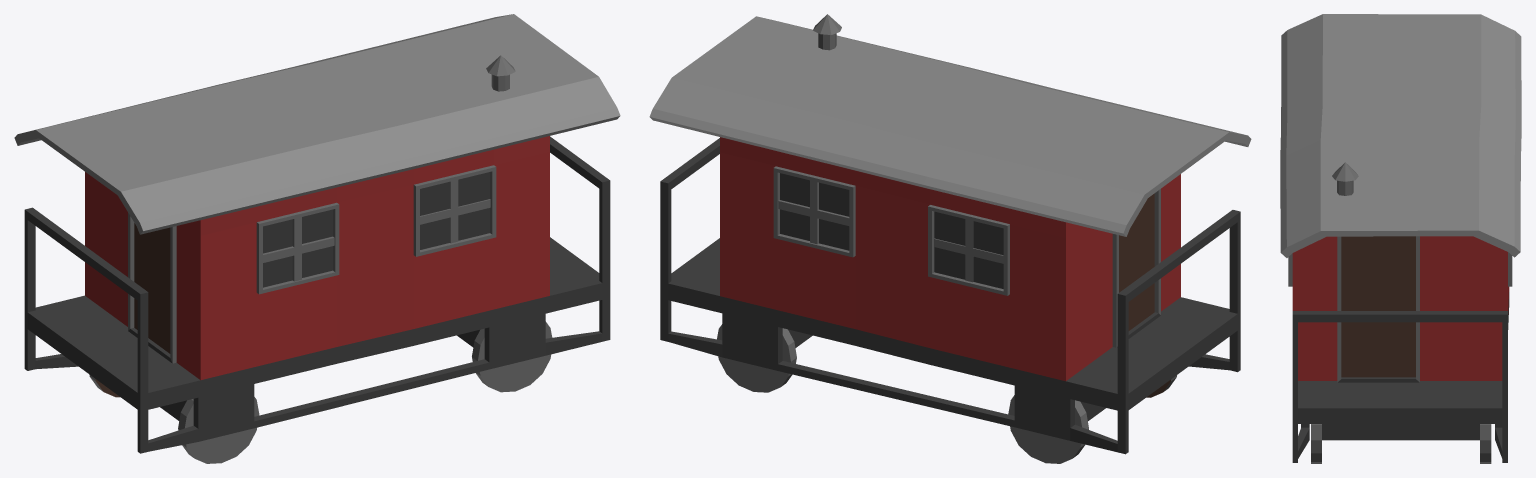
File: passenger_car.fbx
The picture shows the model from 3 angles, left to right: view 1: azimuth 30°, elevation 25°; view 2: azimuth 150°, elevation 25°; view 3: azimuth 270°, elevation 25°; orthographic projection. The views are drawn at different scales.
Parts seen in each view (by area): view 1: Cube; view 2: Cube; view 3: Cube.
Boxes of the visible parts, x1,y1,x2,y2 form: Cube: (14, 14, 620, 463); Cube: (649, 14, 1251, 463); Cube: (1280, 14, 1521, 463).
Size of the model in its own units: 212 by 137 by 99.92.
